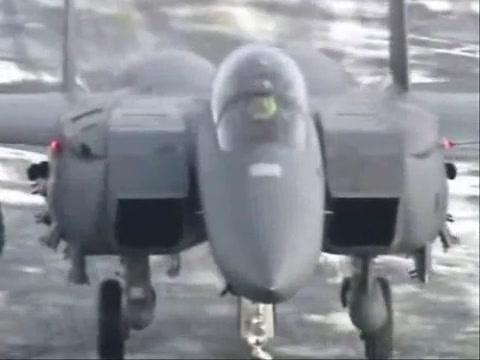aeroplane: (1, 2, 480, 359)
